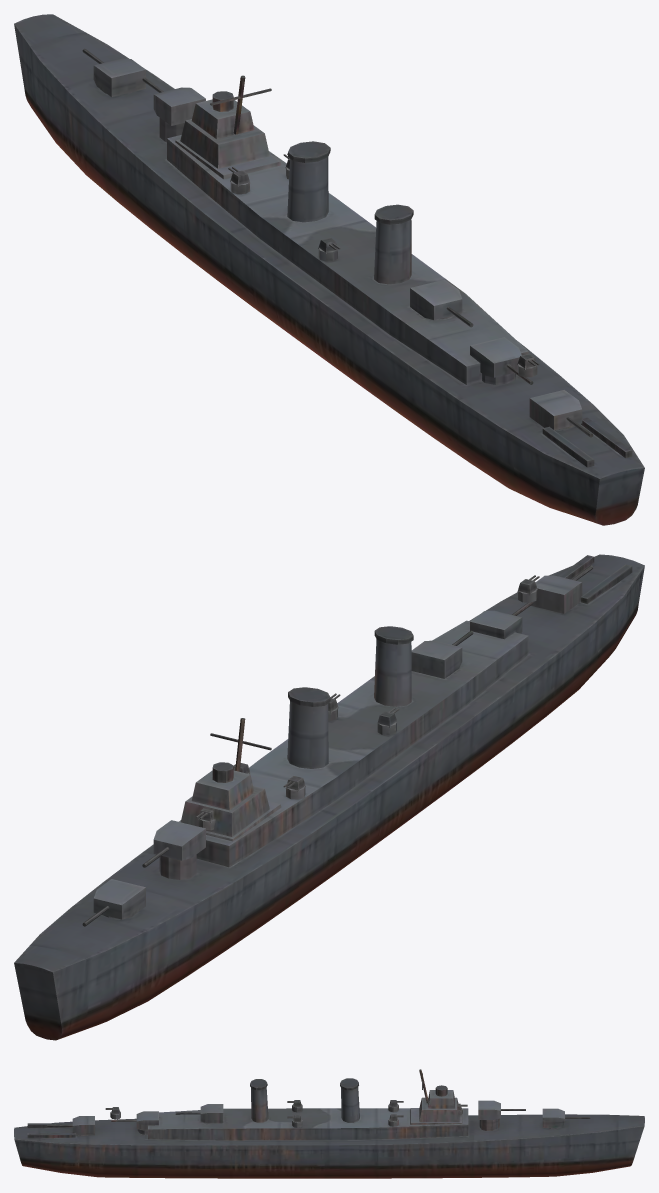
The model's file is destroyer_usn_baked.glb.
The picture shows the model from 3 angles, top to bottom: view 1: azimuth 30°, elevation 25°; view 2: azimuth 150°, elevation 25°; view 3: azimuth 270°, elevation 25°; orthographic projection. The views are drawn at different scales.
Parts seen in each view (by area): view 1: destroyer_usn; view 2: destroyer_usn; view 3: destroyer_usn.
Boxes of the visible parts, bbox=[...] form: destroyer_usn: bbox=[14, 14, 644, 525]; destroyer_usn: bbox=[14, 554, 644, 1040]; destroyer_usn: bbox=[14, 1069, 644, 1178].
Size of the model in its own units: 12.72 by 21.24 by 118.
Materials: 1 (1 with a texture image).
